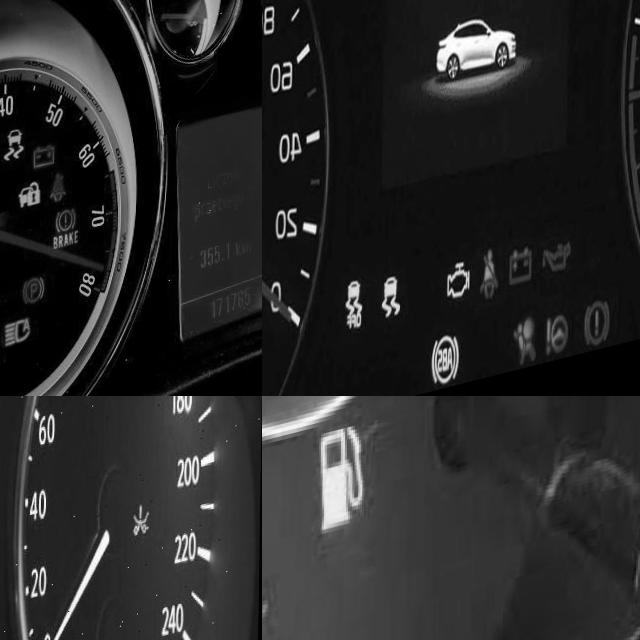Electronic Power Steering: (546, 327, 572, 382)
Seat Belt: (481, 262, 502, 320), (51, 179, 67, 215)
